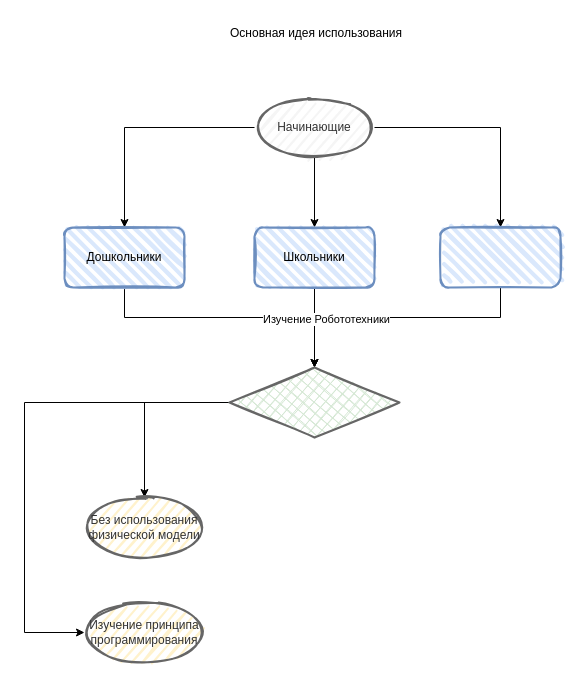
Some shapes in this 579 by 680 pixel diagram are drawn without their labels. The shapes that lost their labels are listed below. From the top down, each one's box as (x1, y1, x2, y2) in pixels, then its label:
(439, 226, 561, 288): Направленные кружки
(228, 366, 400, 438): Изучение дисциплины на начальном уровне
